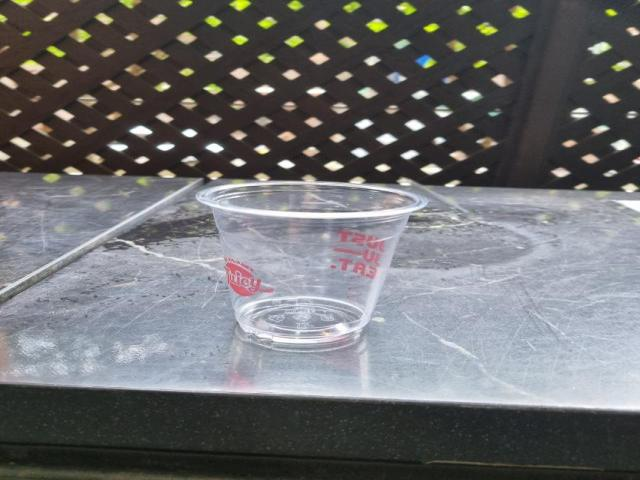cup: (187, 177, 434, 354)
